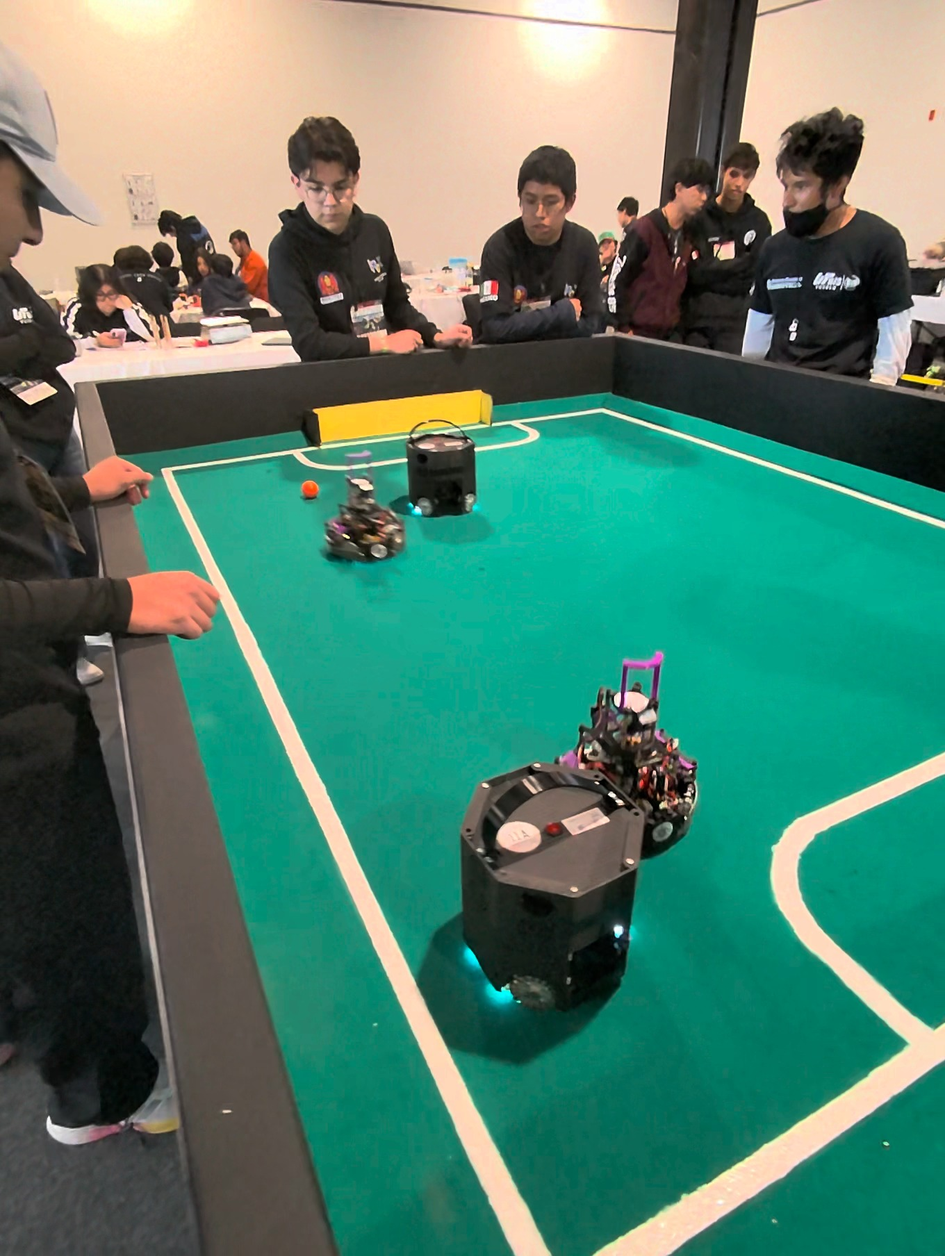Robot: (425, 759, 648, 1035), (570, 651, 701, 872), (399, 400, 479, 530), (321, 474, 413, 570)
pelota: (299, 478, 322, 500)
